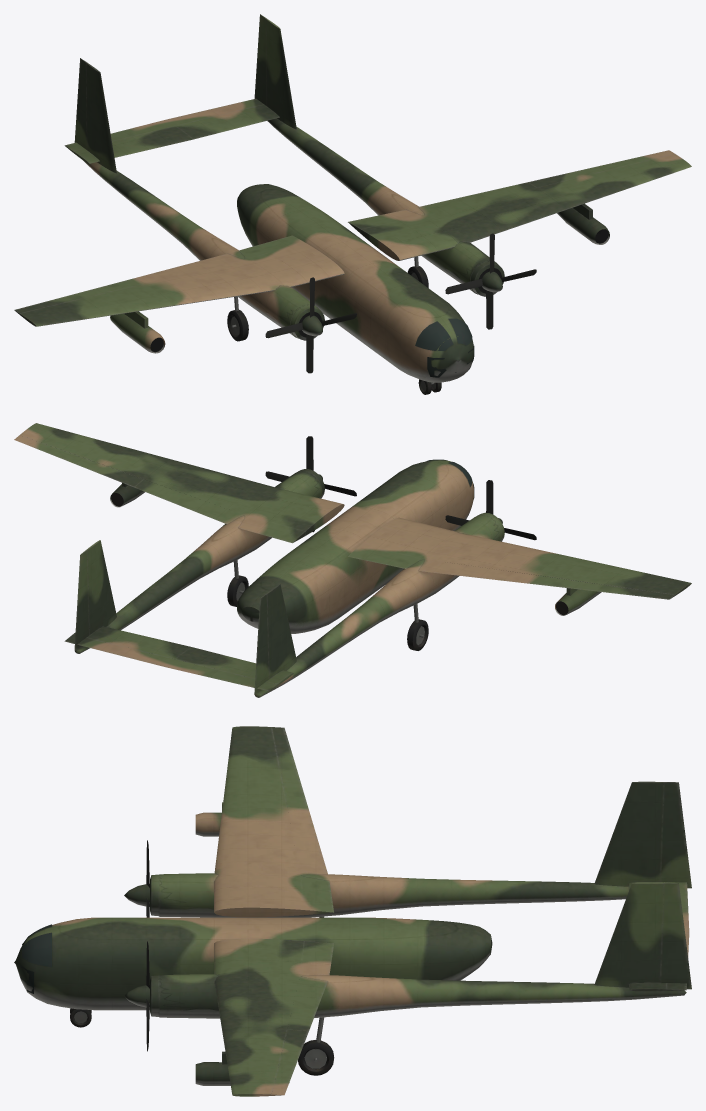
The picture shows the model from 3 angles, top to bottom: view 1: azimuth 30°, elevation 25°; view 2: azimuth 150°, elevation 25°; view 3: azimuth 270°, elevation 25°; orthographic projection. The views are drawn at different scales.
Visible parts, largest first — view 1: than, canh_lai_do_cao, canh_quat_1, canh_quat_2, canh_lien_trai, canh_lien_phai, canh_lai_huong_phai, canh_lai_huong_trai; view 2: than, canh_lai_do_cao, canh_lien_trai, canh_lien_phai, canh_lai_huong_trai, canh_lai_huong_phai, canh_quat_1, canh_quat_2, banh_phai, banh_trai; view 3: than, canh_lai_huong_phai, canh_lai_huong_trai, canh_lien_phai, canh_lien_trai, banh_trai, canh_quat_1, canh_quat_2, canh_lai_do_cao.
Boxes of the visible parts, left/top/right/bottom form: than: left=19, top=19, right=691, bottom=384; canh_lai_do_cao: left=64, top=98, right=263, bottom=152; canh_quat_1: left=445, top=233, right=536, bottom=329; canh_quat_2: left=265, top=277, right=356, bottom=373; canh_lien_trai: left=528, top=150, right=674, bottom=187; canh_lien_phai: left=14, top=278, right=142, bottom=314; canh_lai_huong_phai: left=74, top=58, right=86, bottom=149; canh_lai_huong_trai: left=254, top=14, right=266, bottom=105; than: left=20, top=423, right=691, bottom=697; canh_lai_do_cao: left=64, top=634, right=277, bottom=691; canh_lien_trai: left=14, top=435, right=143, bottom=487; canh_lien_phai: left=528, top=575, right=674, bottom=599; canh_lai_huong_trai: left=74, top=550, right=89, bottom=650; canh_lai_huong_phai: left=254, top=594, right=269, bottom=694; canh_quat_1: left=265, top=436, right=356, bottom=532; canh_quat_2: left=445, top=480, right=536, bottom=540; banh_phai: left=407, top=619, right=428, bottom=650; banh_trai: left=227, top=575, right=248, bottom=606; than: left=14, top=726, right=686, bottom=1096; canh_lai_huong_phai: left=660, top=782, right=691, bottom=888; canh_lai_huong_trai: left=660, top=882, right=691, bottom=989; canh_lien_phai: left=271, top=727, right=308, bottom=810; canh_lien_trai: left=271, top=1029, right=308, bottom=1095; banh_trai: left=298, top=1040, right=334, bottom=1075; canh_quat_1: left=124, top=941, right=149, bottom=1051; canh_quat_2: left=124, top=840, right=149, bottom=917; canh_lai_do_cao: left=666, top=882, right=689, bottom=990.
Bounding box in the file's own units: 33.3 × 8.08 × 25.96.
1 material, 1 textured.
